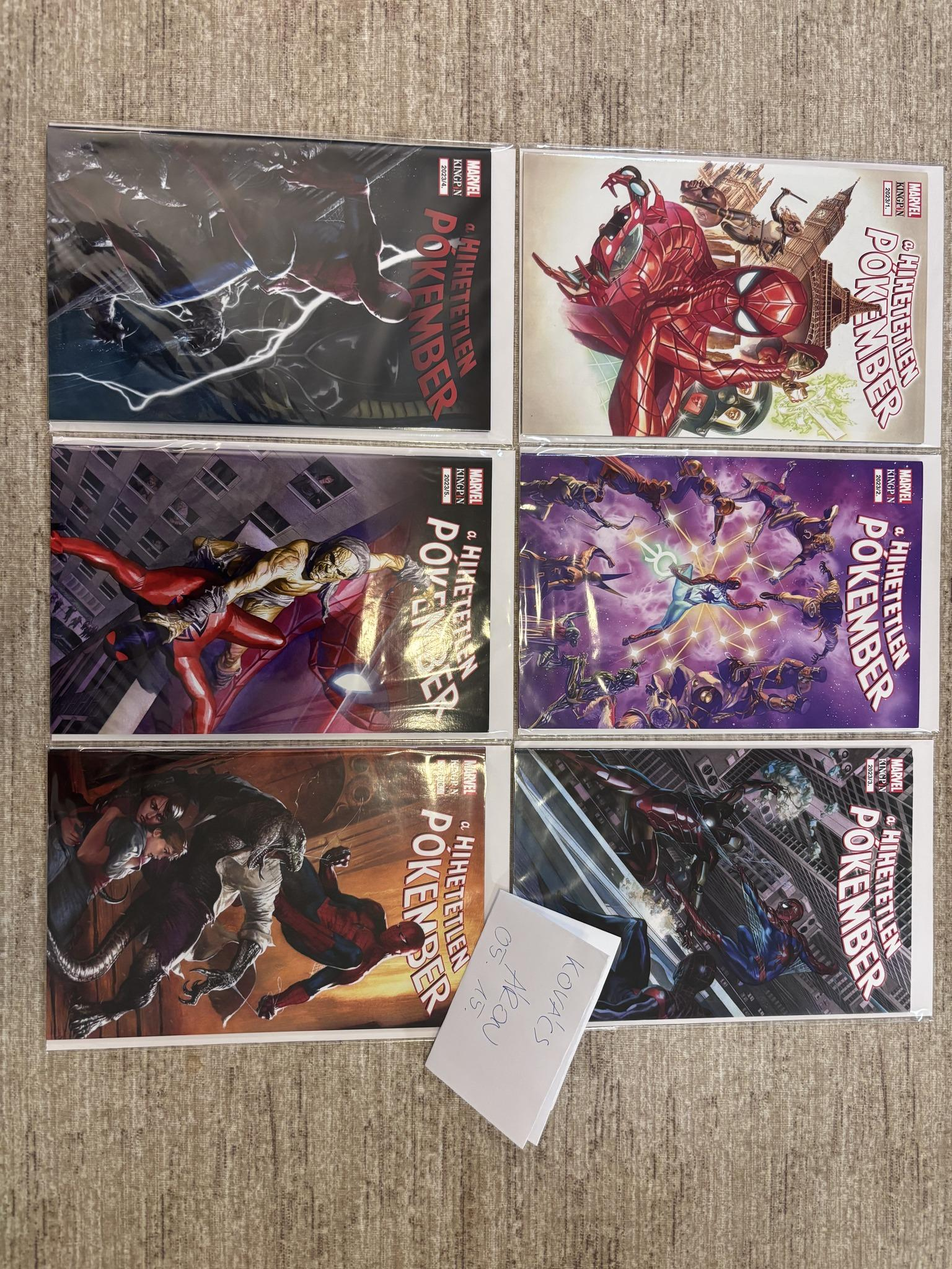comic: (37, 126, 517, 441), (51, 442, 511, 737), (45, 745, 494, 1046), (513, 148, 945, 449), (511, 736, 938, 1026), (519, 450, 938, 731)
